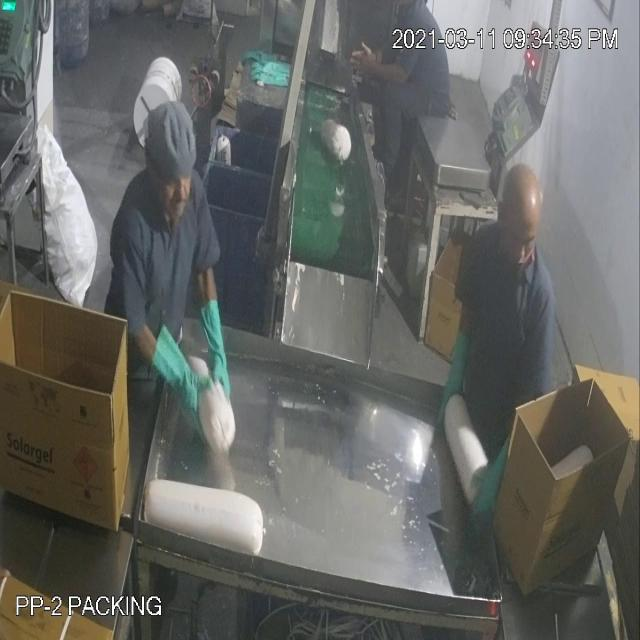gloves: (149, 323, 211, 432), (200, 286, 244, 415)
no-gloves: (349, 38, 408, 102)
